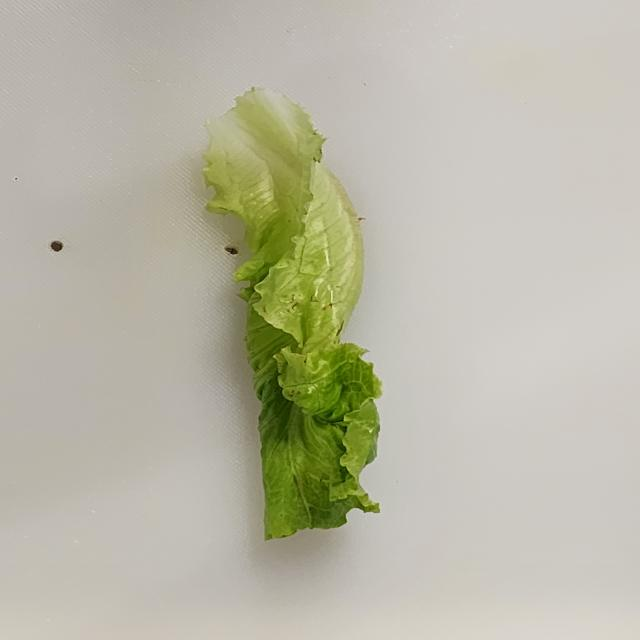lettuce: (200, 86, 383, 541)
